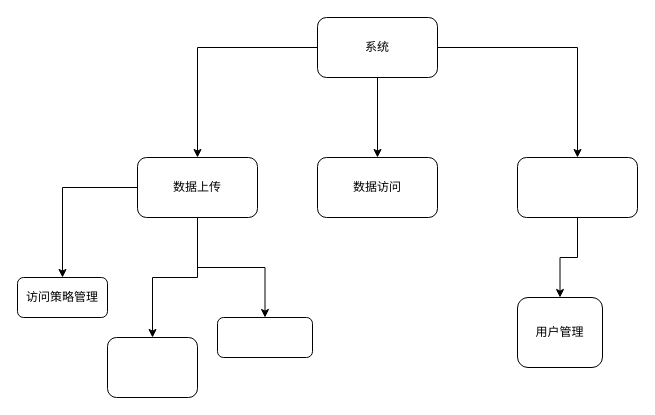
This 655x415 diagram has some shape labels left out. Each missing label, with the box of its shape:
病历管理: (106, 336, 198, 398)
管理员模块: (516, 156, 638, 218)
